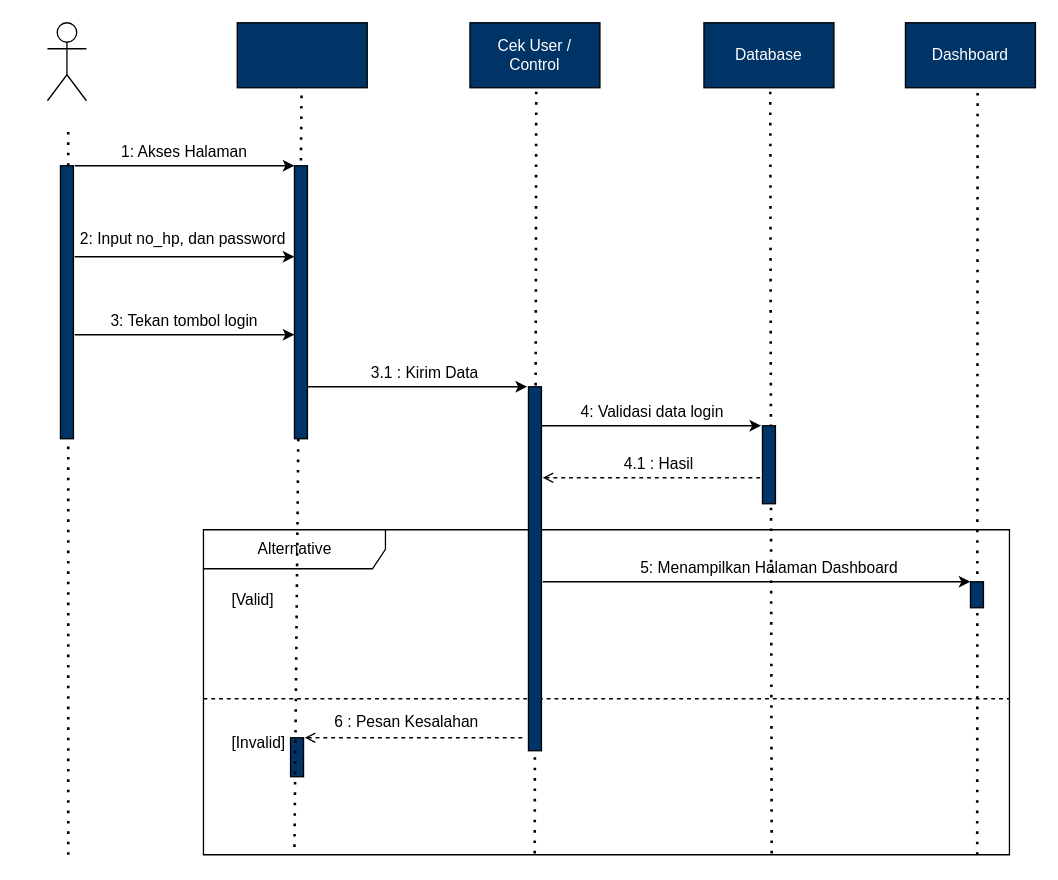
The diagram is 1058 pixels wide and 880 high, and some of its shapes have lost their labels. Each missing label, with the box of its shape:
Halaman Login: (236, 21, 367, 88)
Super Admin: (46, 21, 86, 101)
